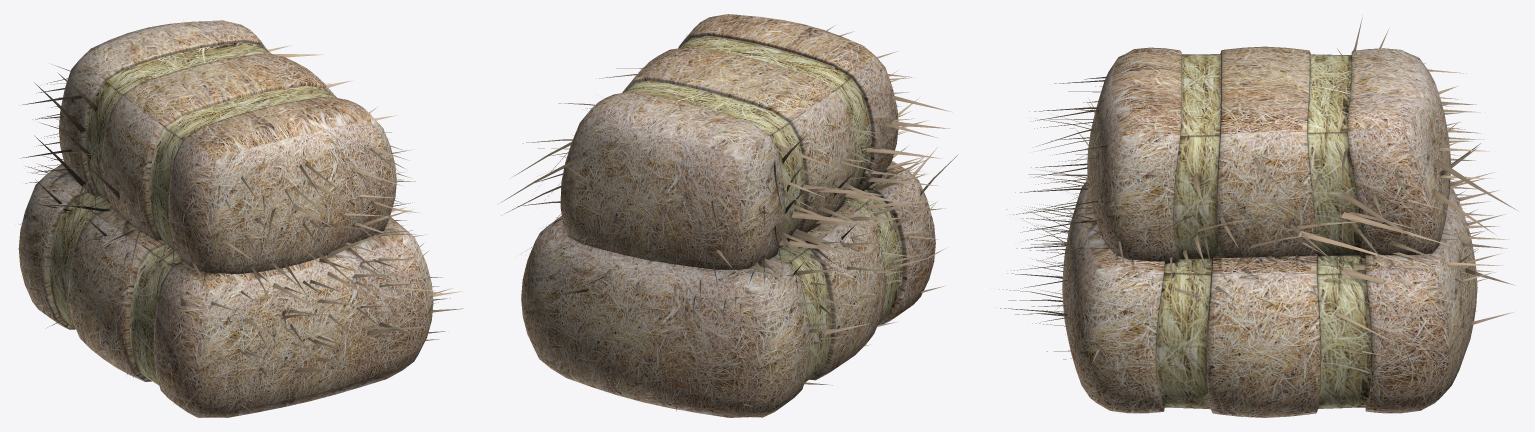
File: Hay bales  TIANHAOCHEN.fbx
3 views of the same model, side by side, from view 1: azimuth 30°, elevation 25°; view 2: azimuth 150°, elevation 25°; view 3: azimuth 270°, elevation 25° (orthographic). The views are drawn at different scales.
Parts seen in each view (by area): view 1: Object003, Object005, Object002, Object004, Object001; view 2: Object004, Object005, Object002, Object001, Object003; view 3: Object005, Object004, Object003, Object002, Object001.
Boxes of the visible parts, box(x1,y1,x2,y2) form: Object003: box(74, 207, 433, 417); Object005: box(59, 20, 396, 274); Object002: box(48, 42, 336, 385); Object004: box(18, 53, 336, 329); Object001: box(19, 54, 463, 412); Object004: box(521, 47, 856, 417); Object005: box(523, 14, 898, 272); Object002: box(623, 35, 903, 382); Object001: box(501, 25, 958, 412); Object003: box(529, 160, 935, 386); Object005: box(1087, 47, 1480, 363); Object004: box(1217, 46, 1477, 413); Object003: box(1062, 181, 1464, 417); Object002: box(1156, 53, 1372, 409); Object001: box(996, 15, 1517, 400).
Size of the model in its own units: 1867 by 1453 by 2453.
